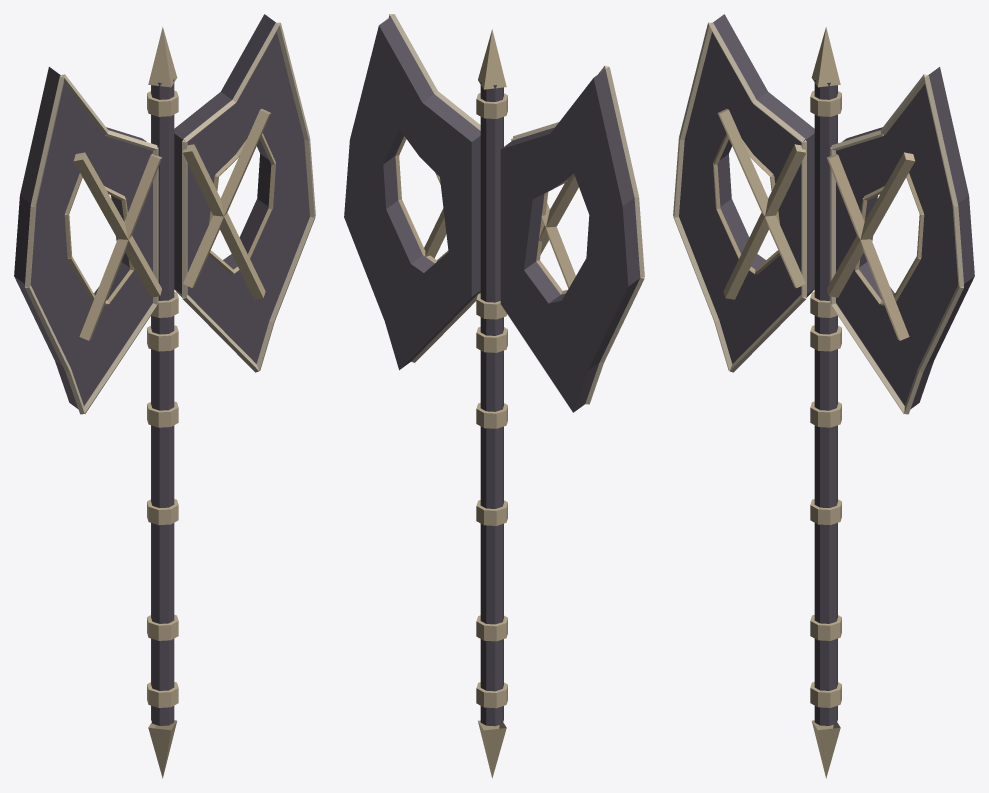
The model's file is GrokGirl_DisplayAxe.fbx.
3 renders of one model, left to right at view 1: azimuth 30°, elevation 25°; view 2: azimuth 150°, elevation 25°; view 3: azimuth 330°, elevation 25°, orthographic.
Parts seen in each view (by area): view 1: Grok_Display_Axe; view 2: Grok_Display_Axe; view 3: Grok_Display_Axe.
Boxes of the visible parts, bbox=[...] form: Grok_Display_Axe: bbox=[14, 14, 315, 778]; Grok_Display_Axe: bbox=[344, 14, 644, 778]; Grok_Display_Axe: bbox=[673, 14, 974, 778].
Size of the model in its own units: 99.99 by 247 by 13.
